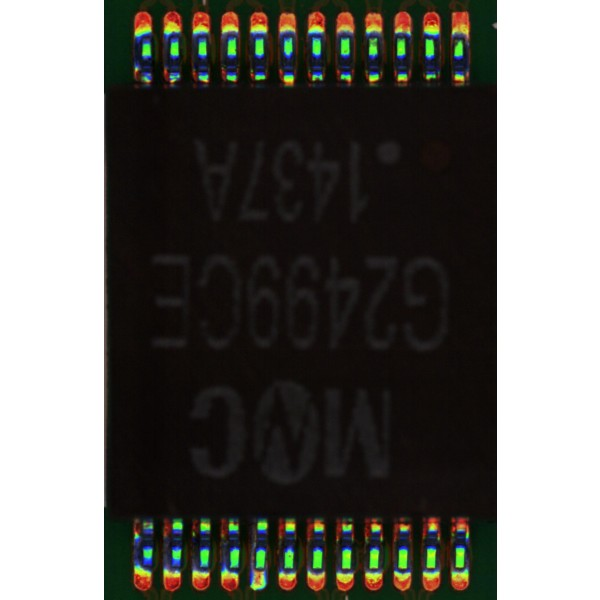Bad_podu: (257, 561, 265, 578)
Bad_qiaojiao: (251, 521, 256, 571)
